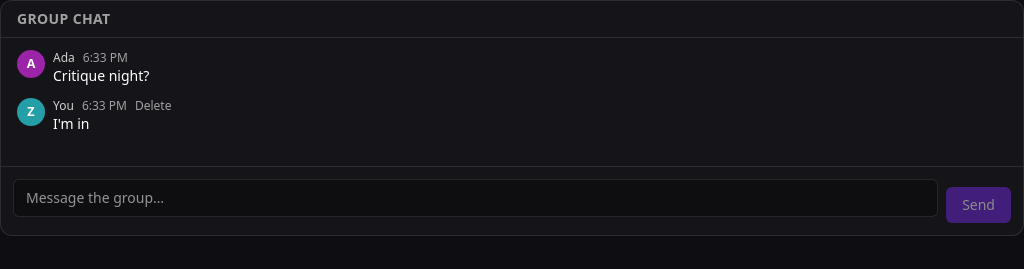
GroupChat › keeps the draft and shows the server's message when sending fails
Type "hello" into the text box named "Group message" at (476, 198), box [13,179,938,217]
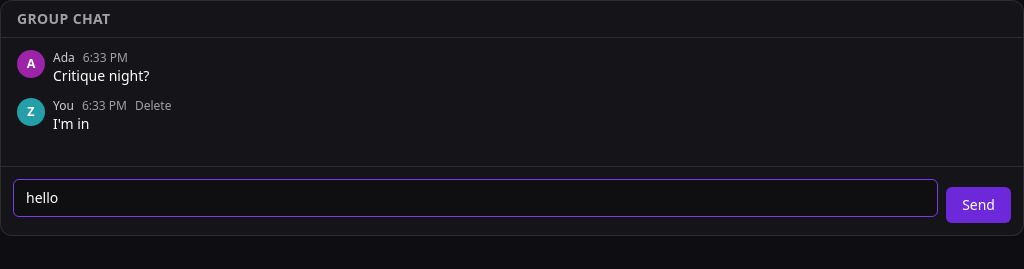
Click the button "Send" at (979, 205), box [946,187,1011,223]
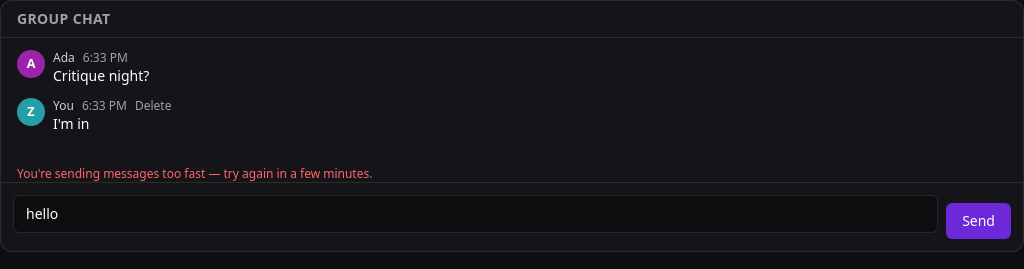
Now the text "sending messages too fast" is shown, box [17,165,372,182]
